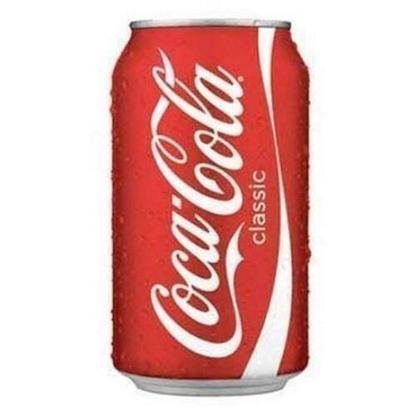Can: (110, 17, 310, 398)
